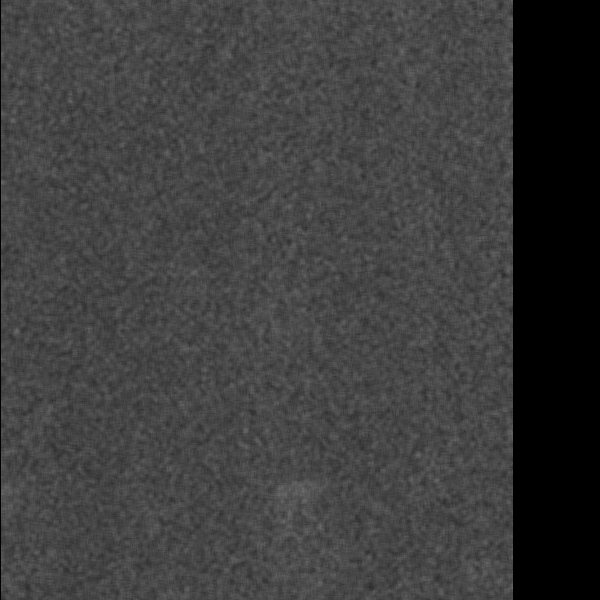spark: (356, 433, 433, 586), (413, 231, 466, 305), (391, 348, 435, 380), (16, 375, 49, 394), (393, 218, 415, 242), (445, 355, 463, 379)
